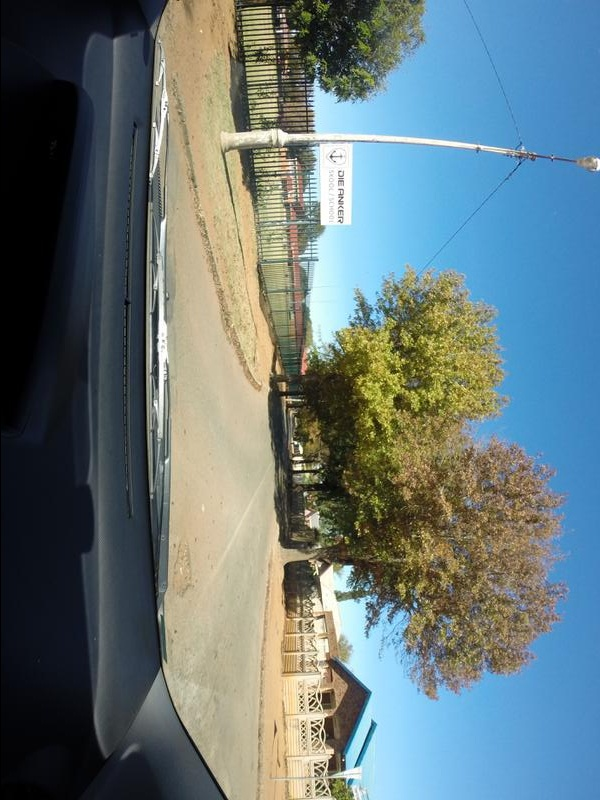pothole: (171, 532, 211, 615)
